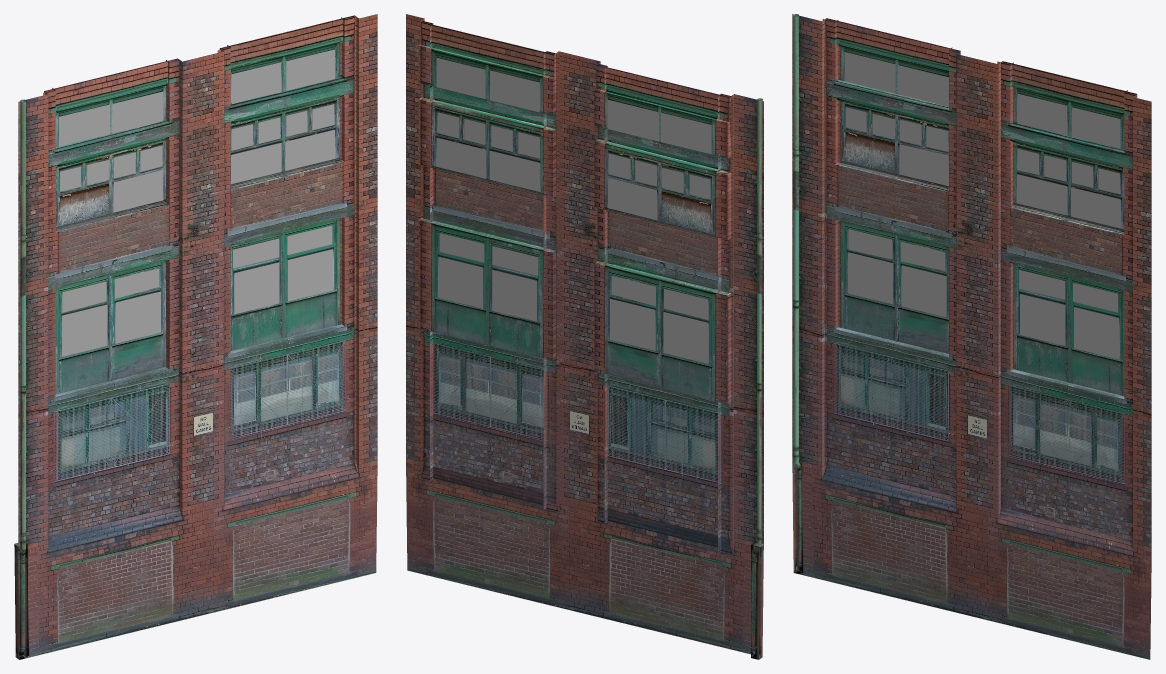
The model's file is building_dks-1.obj.
3 views of the same model, side by side, from view 1: azimuth 30°, elevation 25°; view 2: azimuth 150°, elevation 25°; view 3: azimuth 330°, elevation 25° (orthographic).
Visible parts, largest first — view 1: building_dks-1; view 2: building_dks-1; view 3: building_dks-1.
Part boxes in pixels (x1,y1,x2,y2): building_dks-1: (14, 14, 377, 659); building_dks-1: (406, 14, 763, 659); building_dks-1: (792, 14, 1151, 659).
Bounding box in the file's own units: 3.37 × 5.01 × 0.1311.
